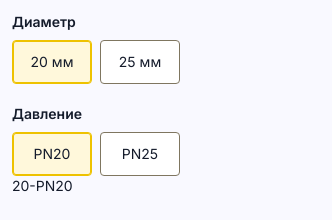
Test: VariantSelector › disables a missing option combination
Step 1. Click the radio button labelled "25 мм" → click(140, 62), box 100,40 -> 180,84
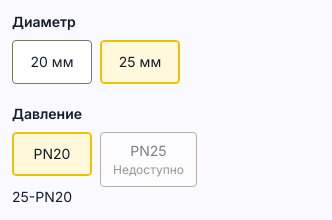
Expected: the radio button labelled "PN25 Недоступно" is disabled, 100,132 -> 197,187
